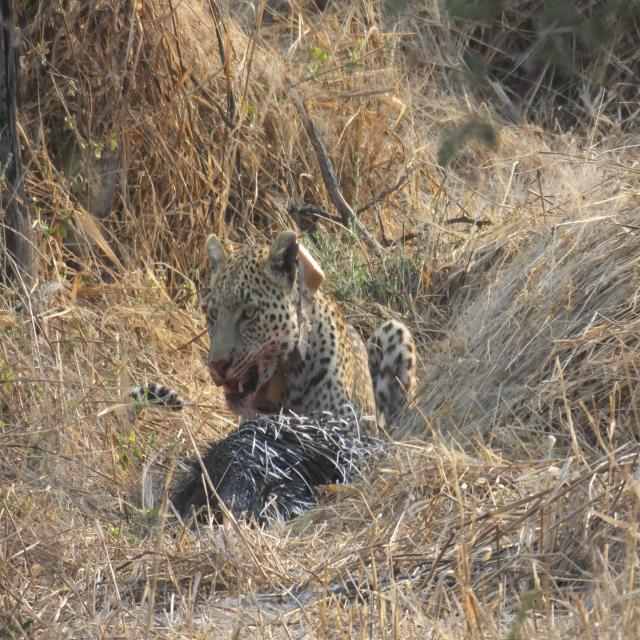Leopard: (116, 220, 421, 448)
